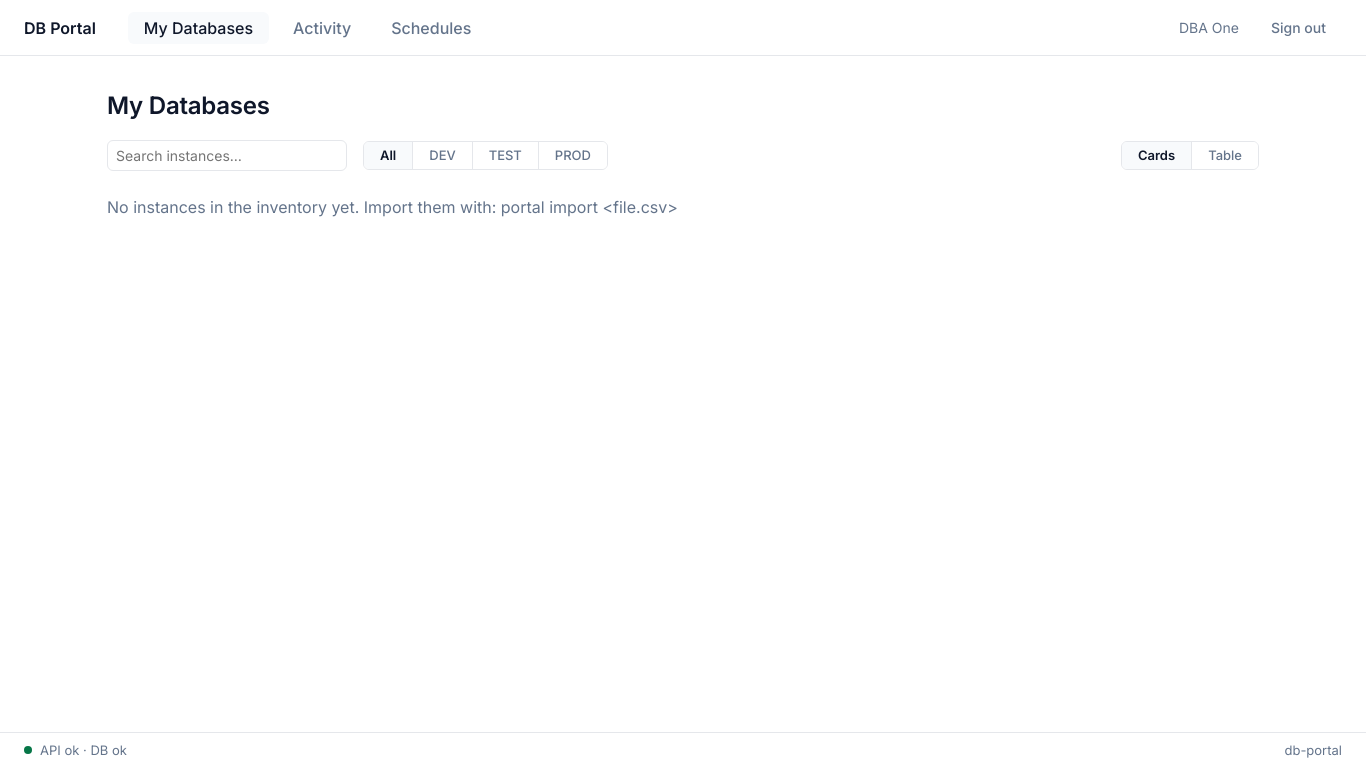
Test case: sign-out on an already-dead session still lands on /login
Expected: the navigation bar named "Primary" is shown, 128,12 -> 487,44
Click the button "Sign out": {"x": 1298, "y": 28} 1255,13 -> 1342,42
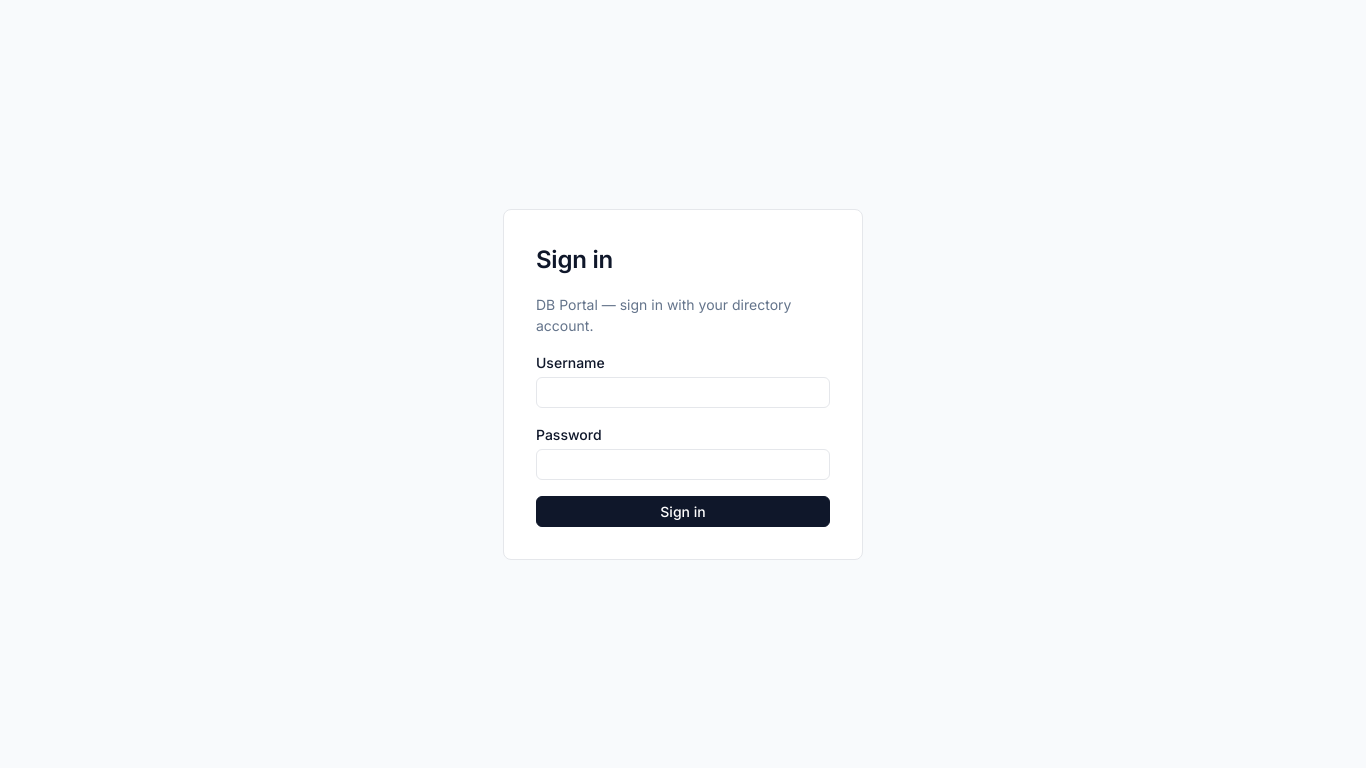
Expected: the heading "Sign in" is shown, 536,244 -> 613,274
